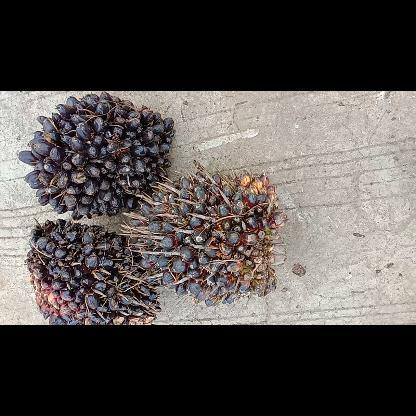TBS mentah: (126, 164, 286, 308), (17, 90, 176, 222), (21, 218, 163, 324)
